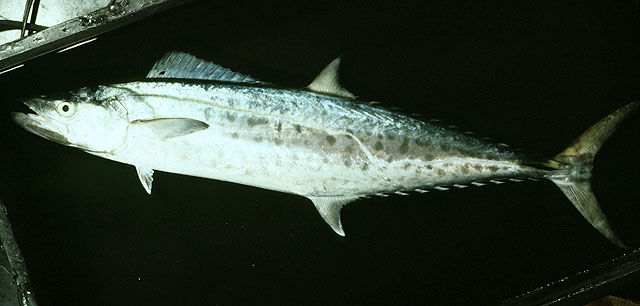fish: (12, 49, 630, 253)
